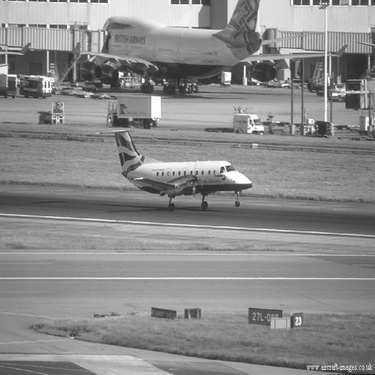airplane: (73, 2, 273, 93), (81, 121, 258, 216)
